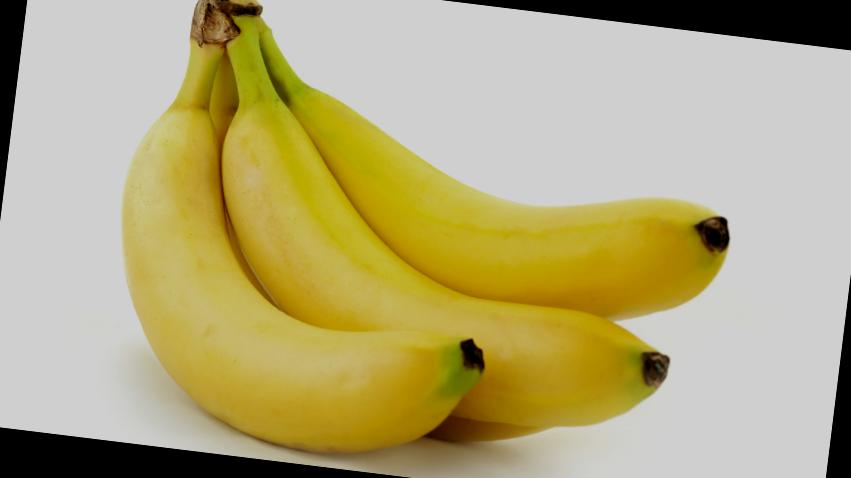Banana Ripe: (171, 25, 756, 442), (90, 47, 534, 469)
